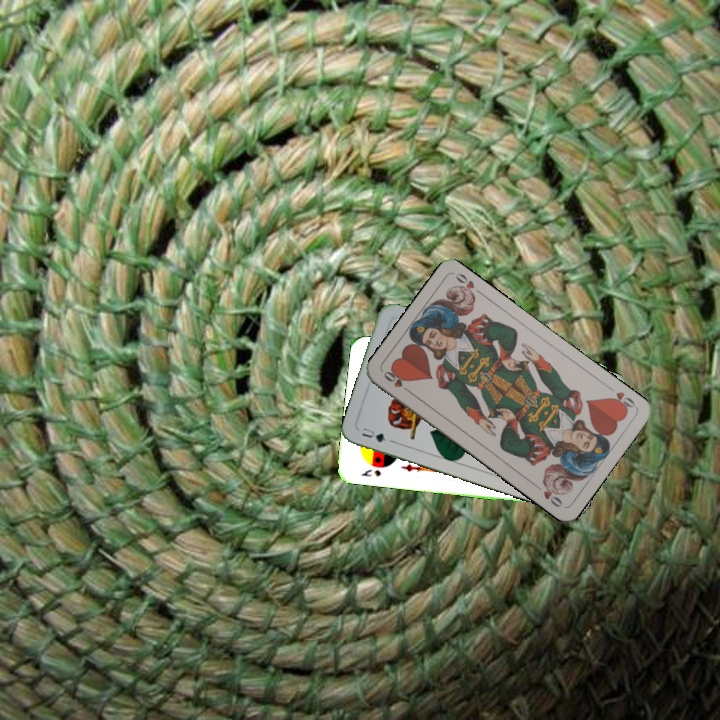GU: (357, 423, 388, 445)
HO: (380, 367, 414, 396), (605, 387, 638, 414)
SK: (357, 465, 383, 479)
